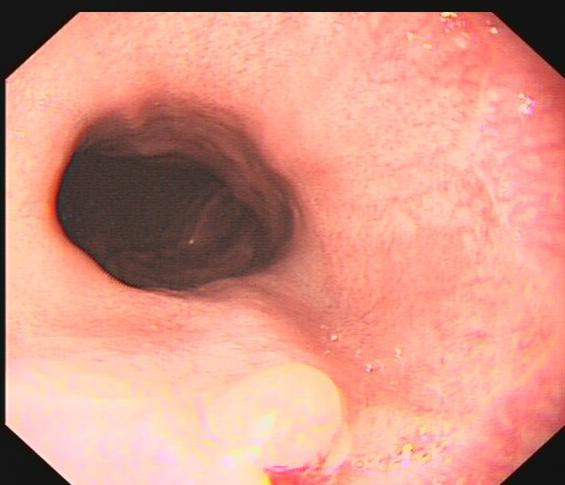Polyp: (194, 357, 353, 472)
